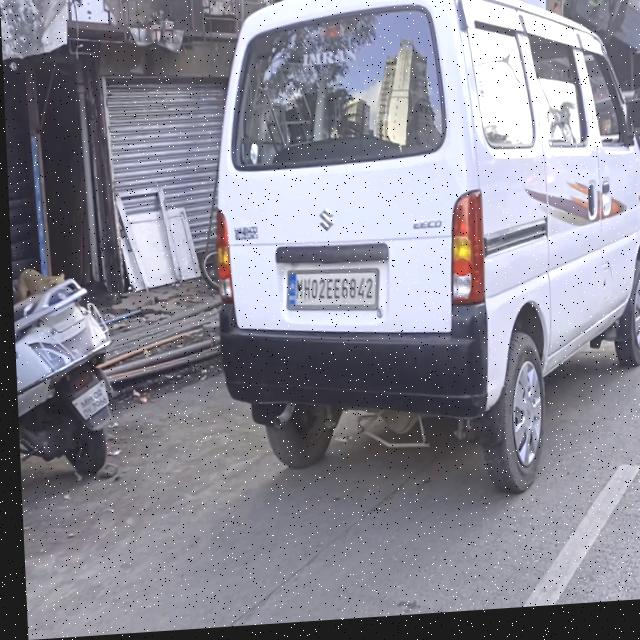plate: (283, 267, 381, 323)
